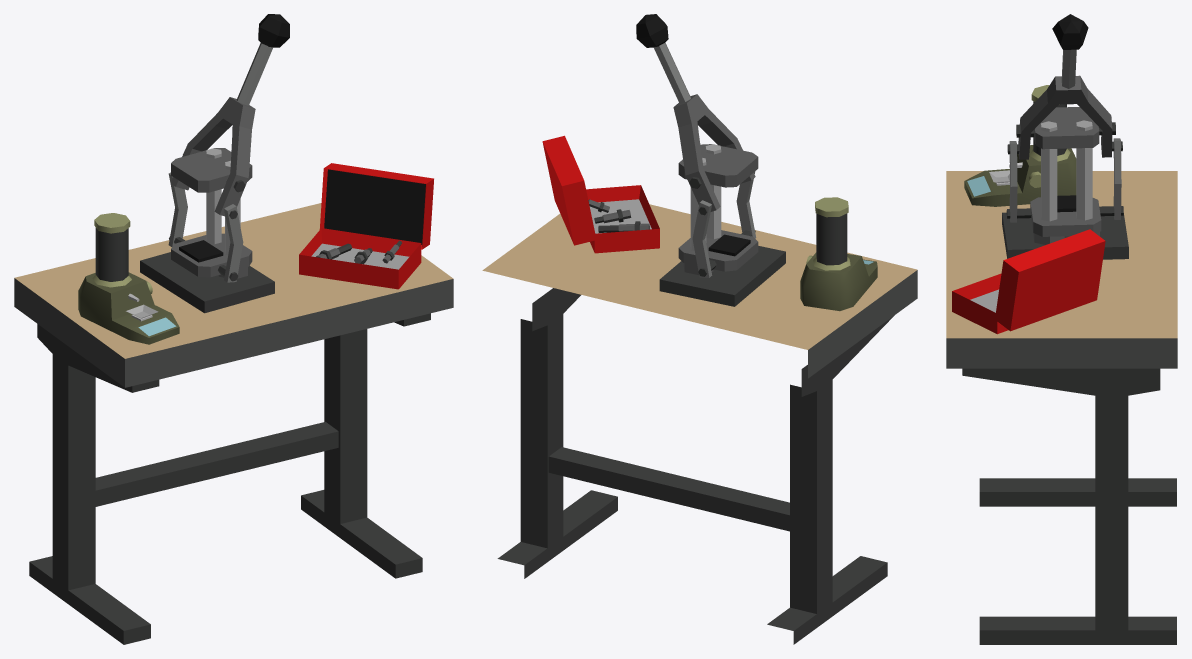
Rendered from ReloadingBench.glb.
3 renders of one model, left to right at view 1: azimuth 30°, elevation 25°; view 2: azimuth 150°, elevation 25°; view 3: azimuth 270°, elevation 25°, orthographic. The views are drawn at different scales.
Parts seen in each view (by area): view 1: ReloadingBench; view 2: ReloadingBench; view 3: ReloadingBench.
Boxes of the visible parts, left/top/right/bottom form: ReloadingBench: left=14, top=14, right=453, bottom=644; ReloadingBench: left=482, top=14, right=917, bottom=644; ReloadingBench: left=946, top=14, right=1177, bottom=644.
Size of the model in its own units: 0.9625 by 1.47 by 0.5372.
Materials: 1 (1 with a texture image).
